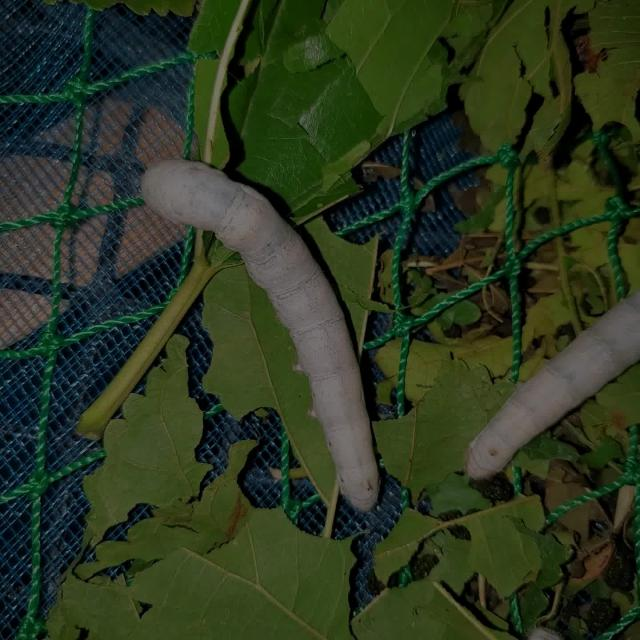Healthy: (120, 134, 392, 524)
